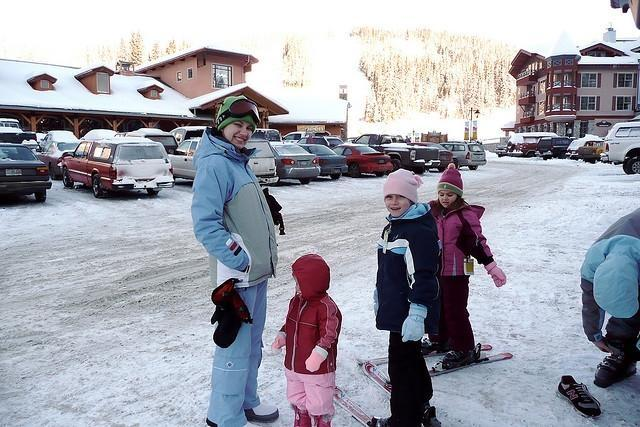car: (54, 134, 177, 199), (168, 140, 278, 184), (0, 144, 52, 202), (270, 141, 320, 186), (600, 121, 640, 175), (296, 143, 348, 180), (330, 143, 392, 172), (506, 130, 558, 157), (442, 142, 486, 170), (533, 136, 573, 160), (566, 140, 606, 162), (79, 128, 119, 139)
truck: (350, 134, 440, 175), (578, 138, 605, 162)
